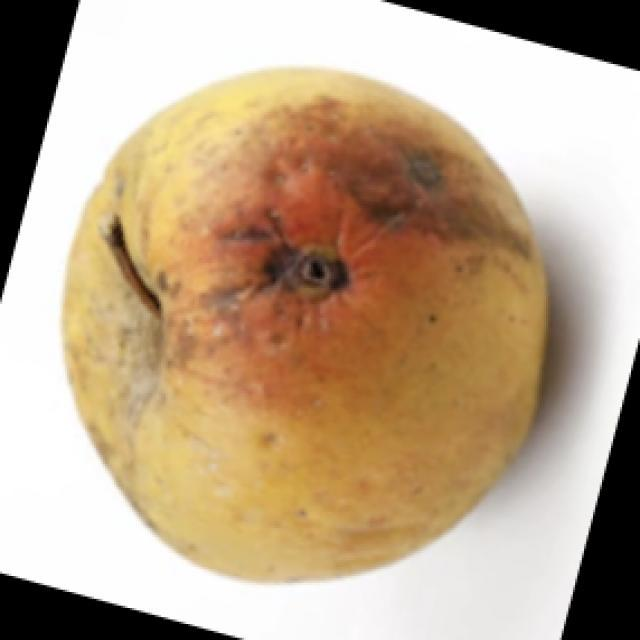Rotten: (85, 86, 557, 566)
